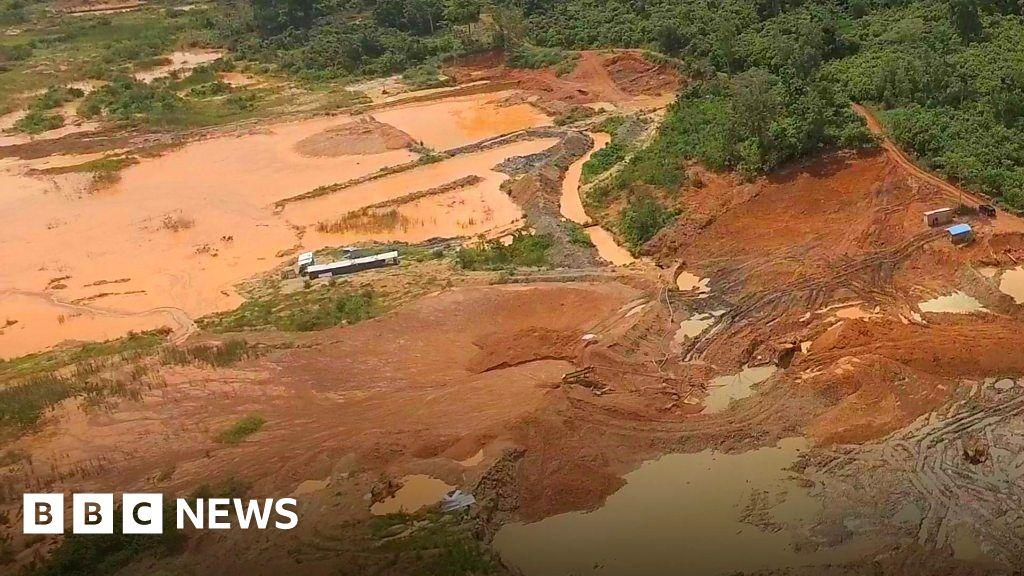Structure: (303, 252, 400, 283), (920, 205, 955, 233), (947, 222, 974, 247), (294, 250, 314, 272)
